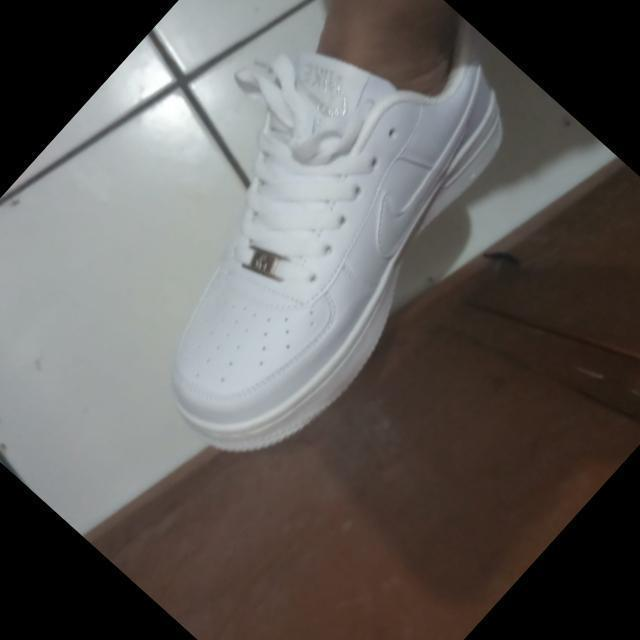nike fake air force: (64, 0, 585, 493)
